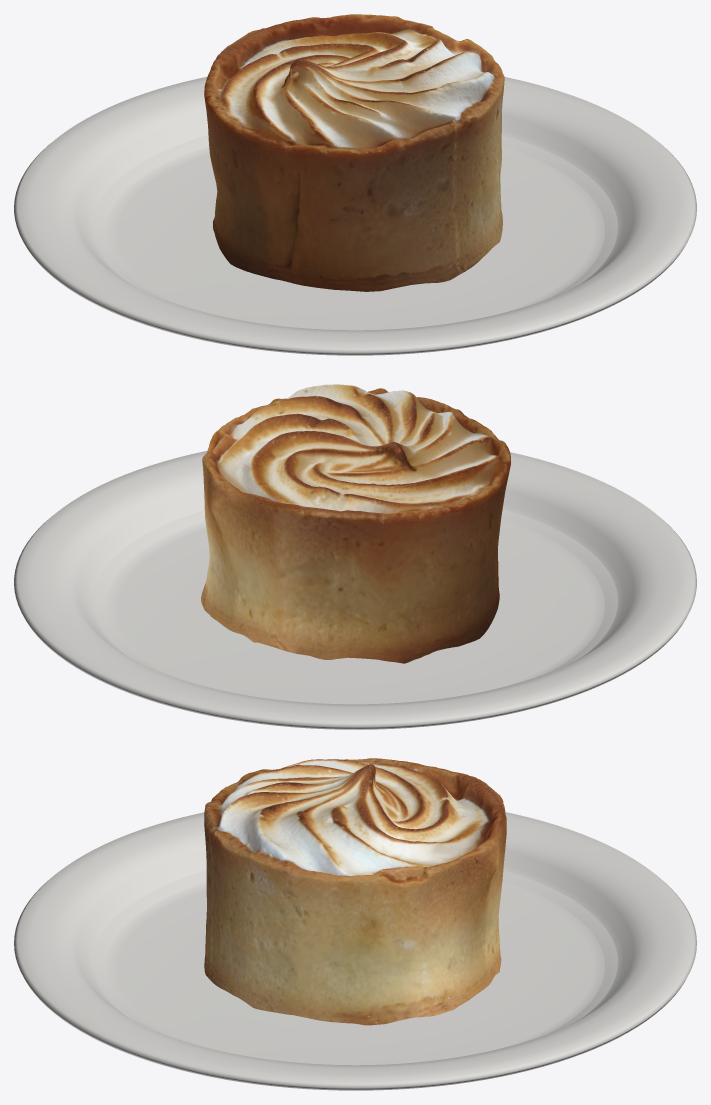
Rendered from tartaleta-limon.glb.
3 renders of one model, top to bottom at view 1: azimuth 30°, elevation 25°; view 2: azimuth 150°, elevation 25°; view 3: azimuth 270°, elevation 25°, orthographic.
Visible parts, largest first — view 1: Plato, Object_2; view 2: Plato, Object_2; view 3: Plato, Object_2.
Part boxes in pixels (x1,y1,x2,y2): Plato: [14, 76, 696, 355]; Object_2: [204, 14, 504, 291]; Plato: [14, 451, 696, 729]; Object_2: [201, 384, 510, 663]; Plato: [14, 812, 696, 1090]; Object_2: [204, 758, 506, 1025].
Size of the model in its own units: 0.19 by 0.0617 by 0.19.
Materials: 2 (1 with a texture image).
